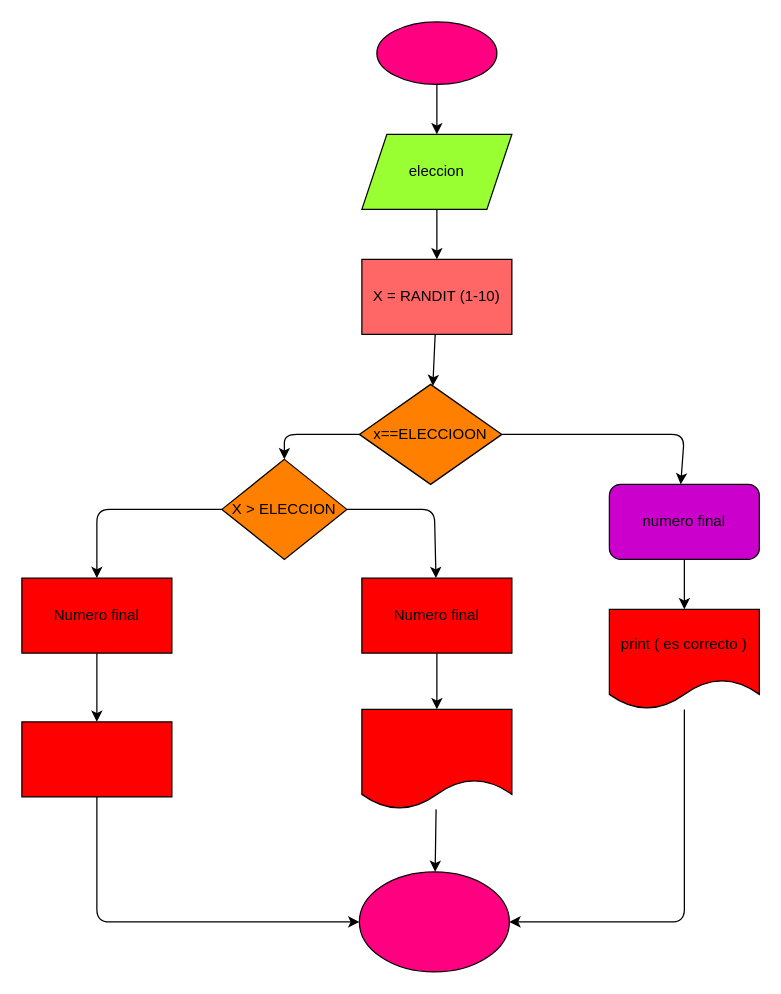
This 781x994 diagram has some shape labels left out. Each missing label, with the box of its shape:
fin: (358, 871, 509, 972)
inicio: (376, 21, 497, 84)
print ( el numero final es menor): (21, 721, 172, 797)
print( el numero final es mayor): (361, 708, 512, 809)
